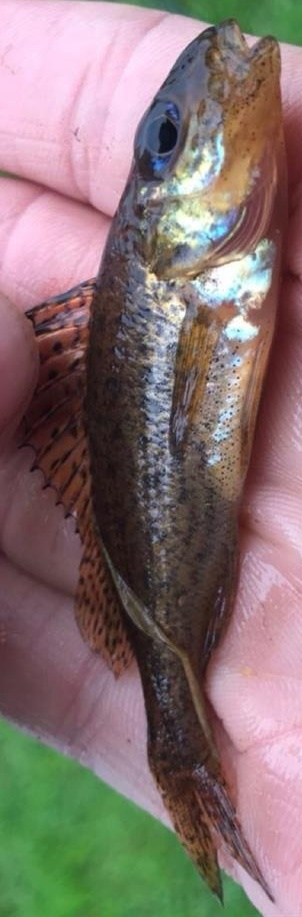Gymnocephalus cernuus: (20, 20, 282, 905)
